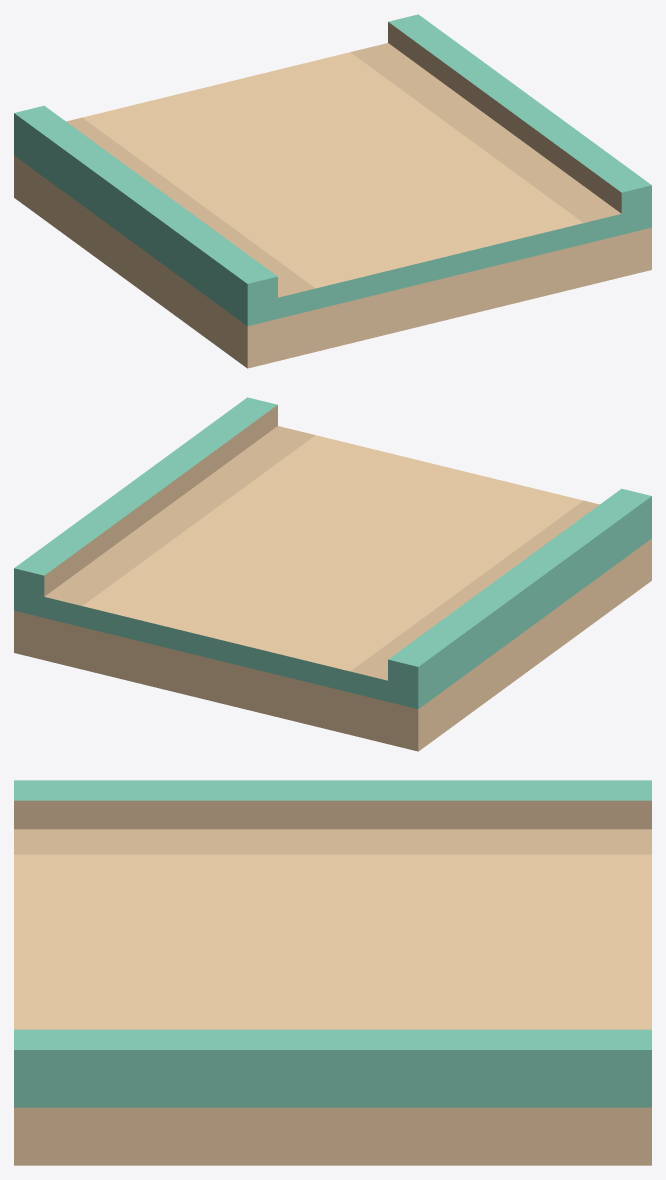
The model's file is tile_straight.fbx.
3 renders of one model, top to bottom at view 1: azimuth 30°, elevation 25°; view 2: azimuth 150°, elevation 25°; view 3: azimuth 270°, elevation 25°, orthographic. The views are drawn at different scales.
Visible parts, largest first — view 1: tile_straight; view 2: tile_straight; view 3: tile_straight.
Part boxes in pixels (x1,y1,x2,y2): tile_straight: [14, 14, 651, 368]; tile_straight: [14, 397, 651, 751]; tile_straight: [14, 780, 651, 1165].
Size of the model in its own units: 100 by 20 by 100.
